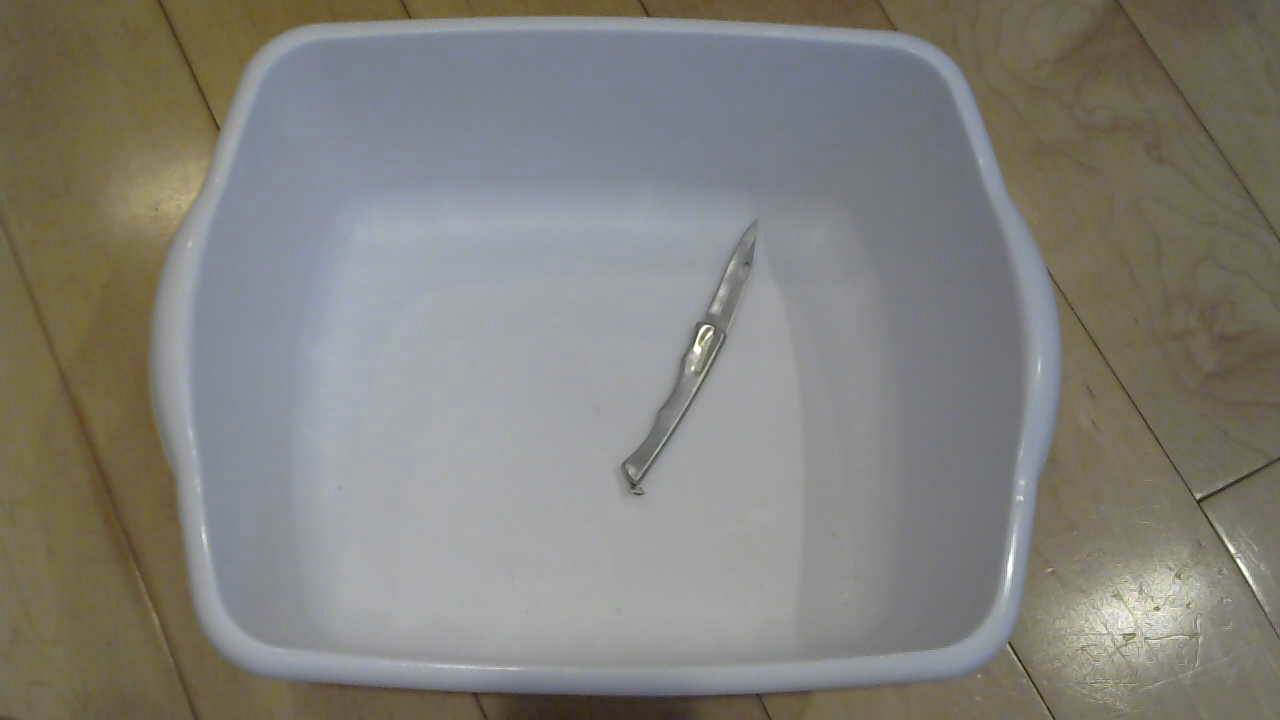knife: (599, 222, 784, 516)
